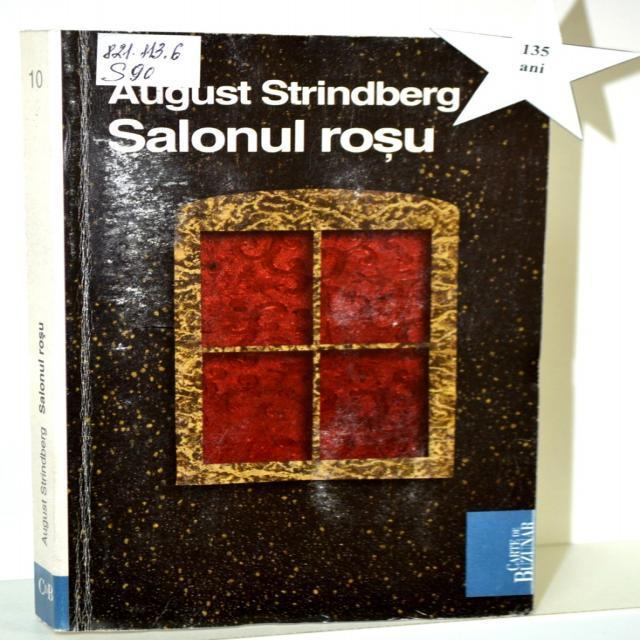book: (15, 23, 558, 640)
